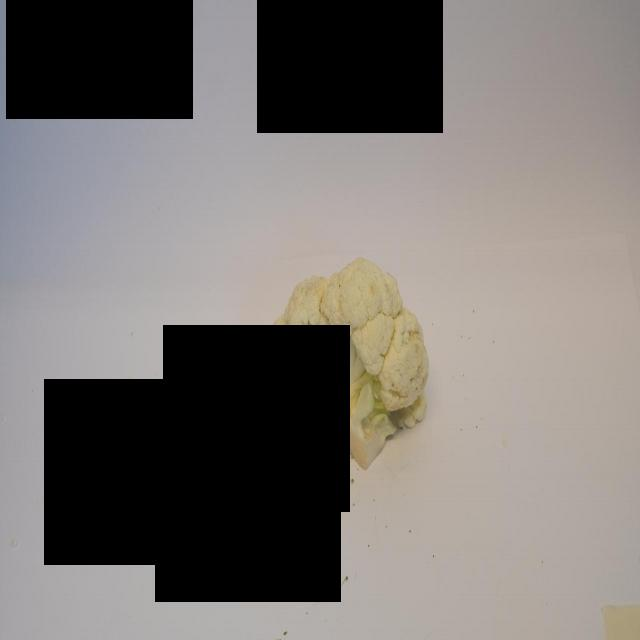cauliflower: (265, 257, 428, 470)
